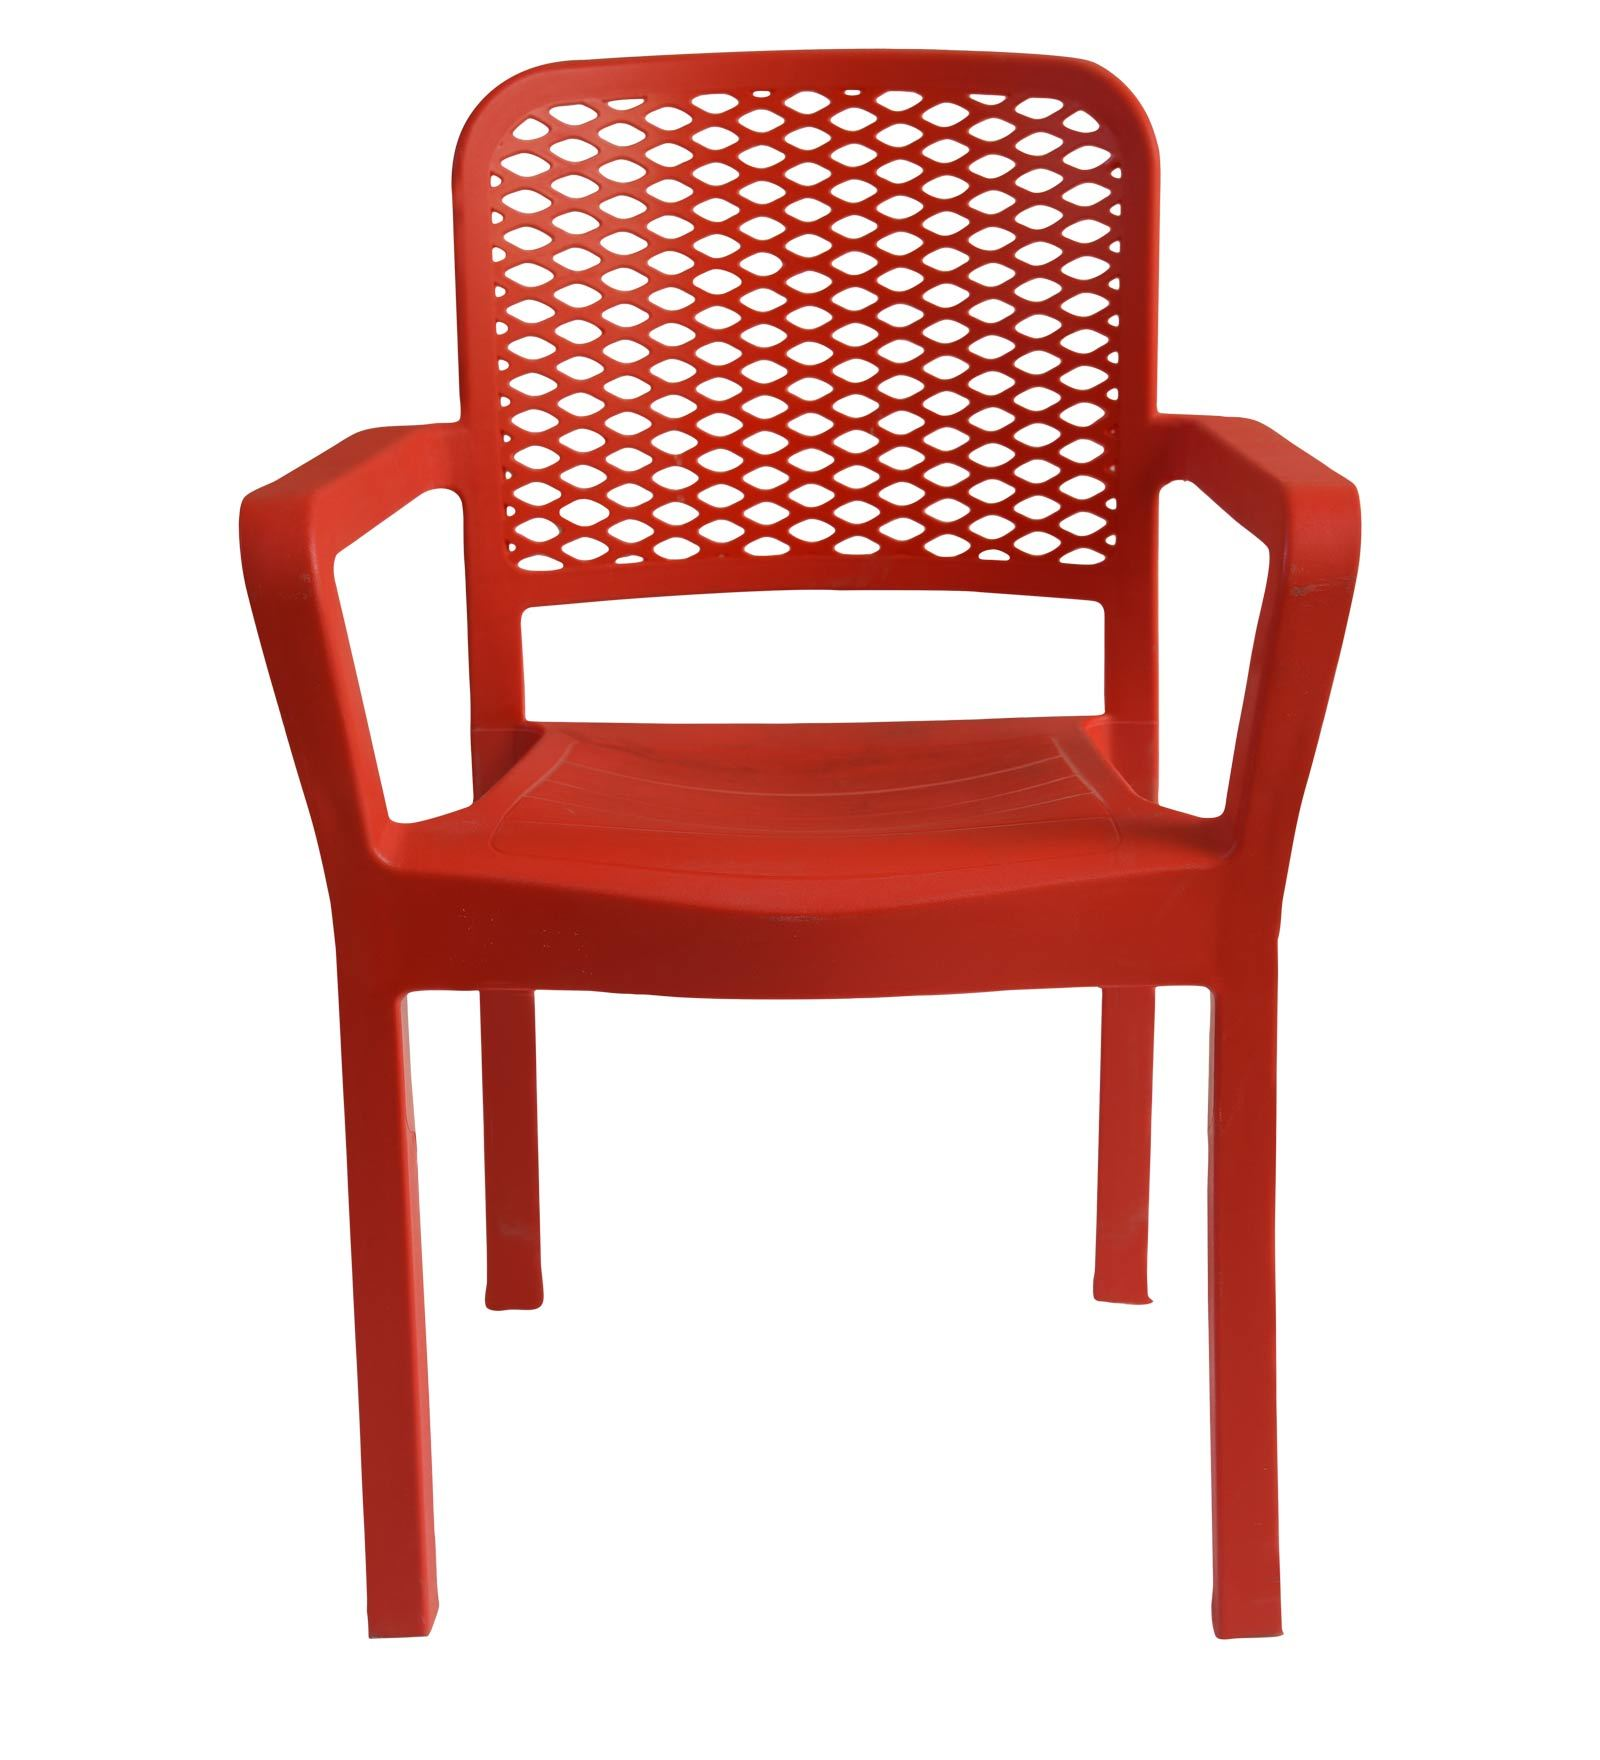Luxury Plastic Chair in Red Colour by Italica Furniture: (234, 31, 1375, 1634)
